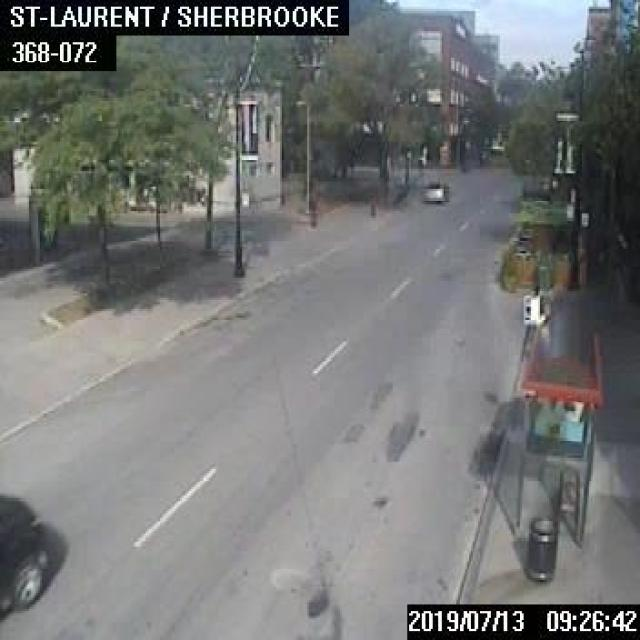vehicle: (0, 491, 49, 618), (422, 180, 447, 202)
